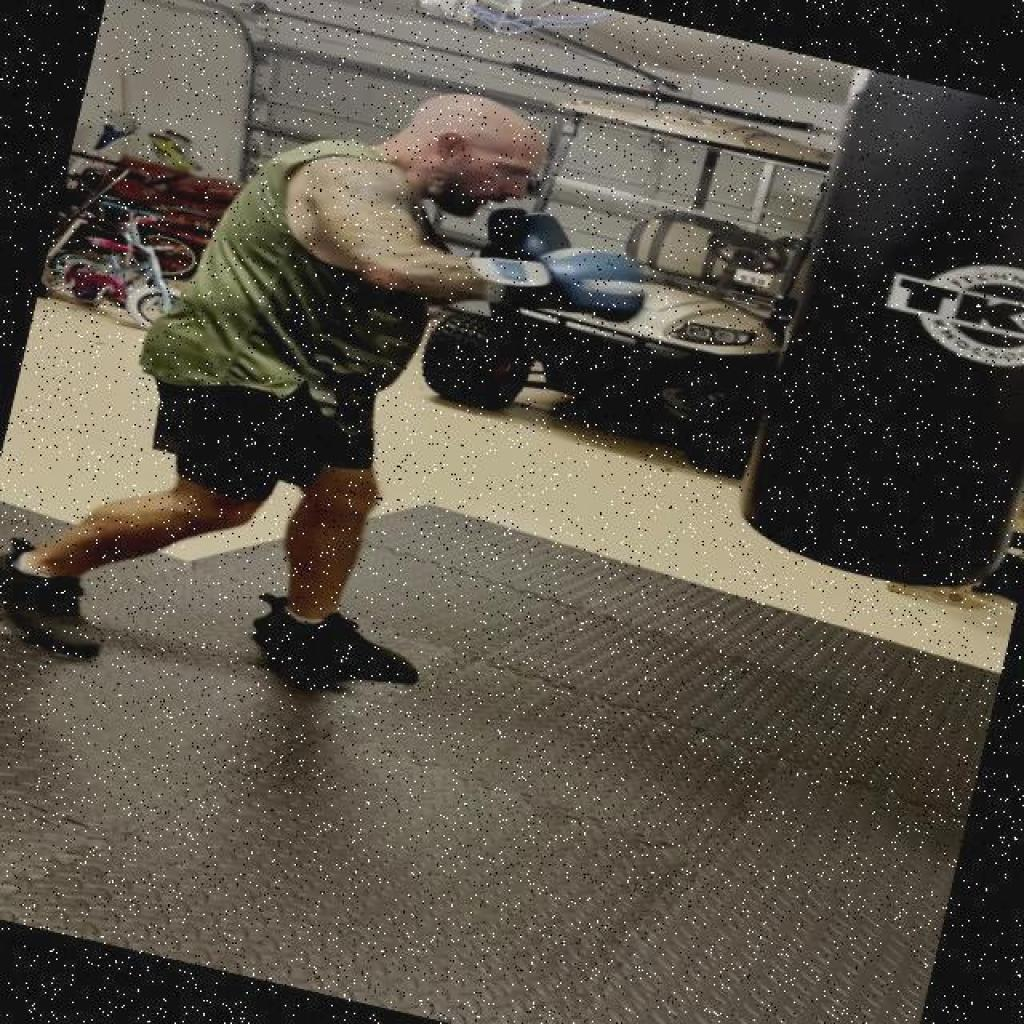bag: (720, 61, 1024, 614)
cross: (174, 0, 726, 390)
